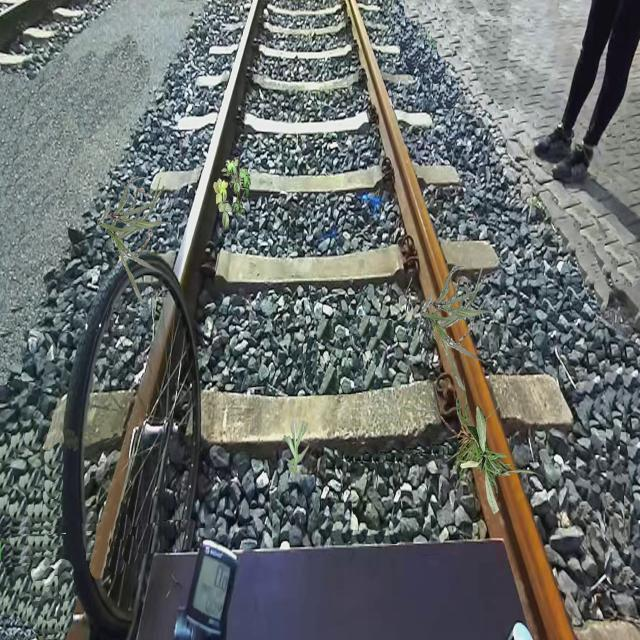Plant: (402, 377, 546, 496), (420, 266, 493, 391), (98, 177, 171, 302), (460, 405, 500, 515), (213, 155, 250, 228), (283, 417, 310, 474)
